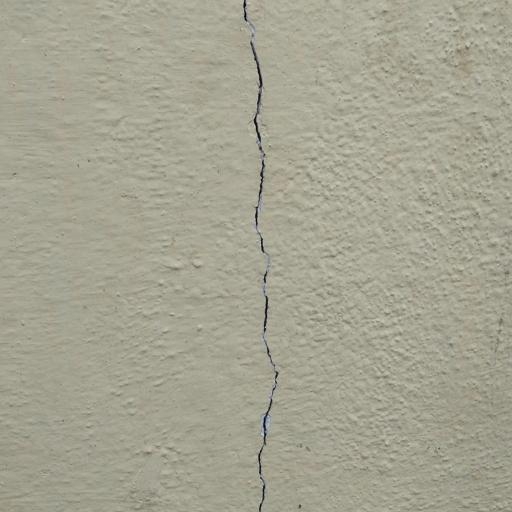major_crack: (229, 0, 285, 512)
